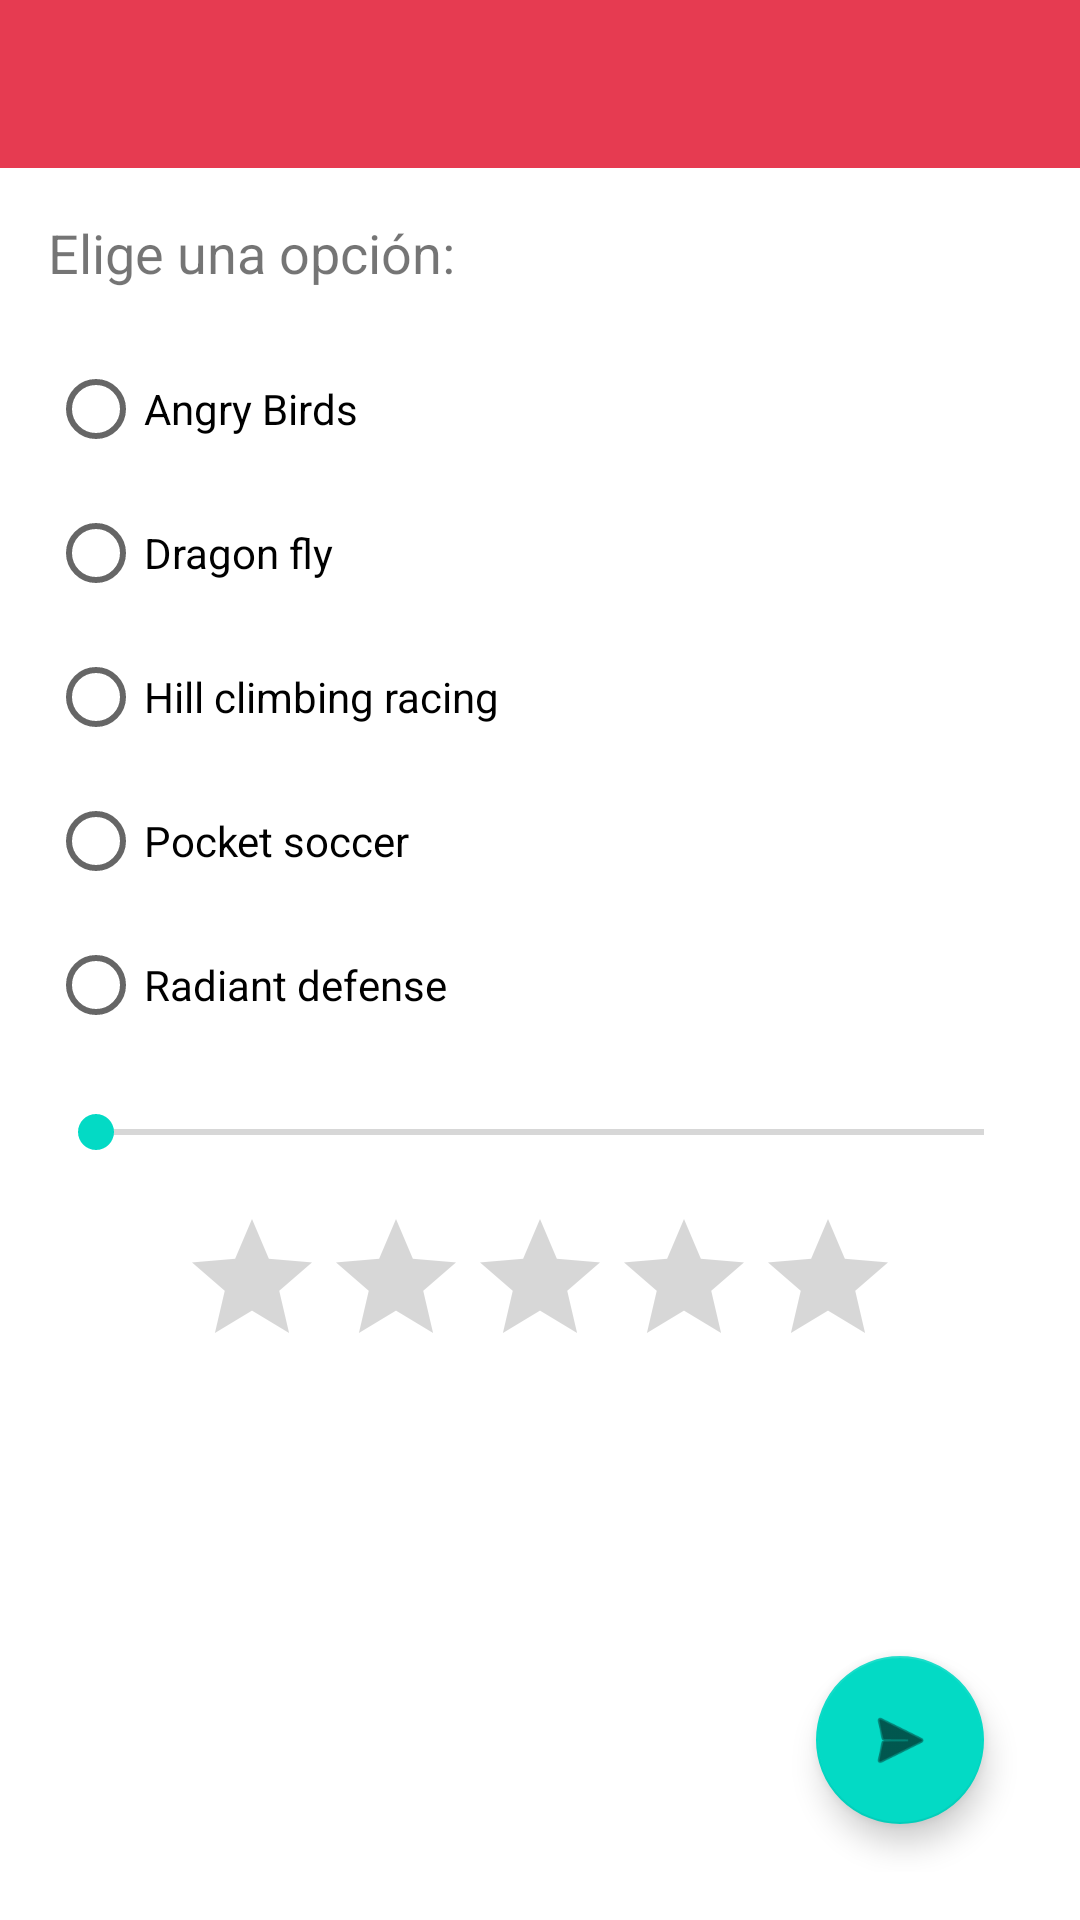

Point at icon controls on the screen. Image size 1080 × 1920, points as (x,y).
send: (900,1740)
